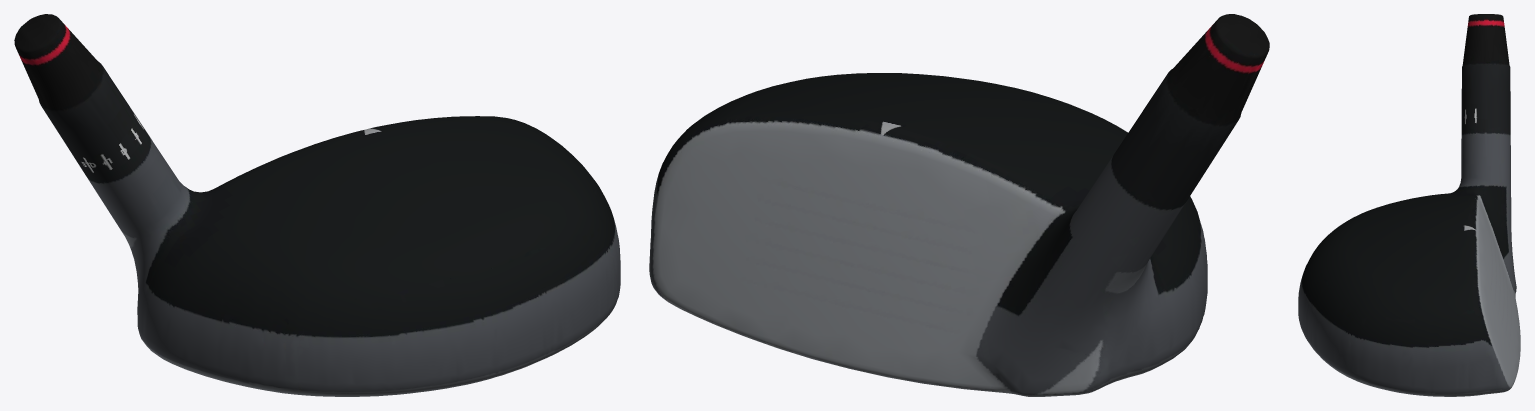
The picture shows the model from 3 angles, left to right: view 1: azimuth 30°, elevation 25°; view 2: azimuth 150°, elevation 25°; view 3: azimuth 270°, elevation 25°; orthographic projection. The views are drawn at different scales.
Parts seen in each view (by area): view 1: head; view 2: head; view 3: head.
Part boxes in pixels (bbox=[...]): head: bbox=[14, 14, 620, 396]; head: bbox=[649, 14, 1269, 396]; head: bbox=[1298, 14, 1520, 396].
Size of the model in its own units: 0.1156 by 0.0736 by 0.0626.
1 material, 1 textured.
